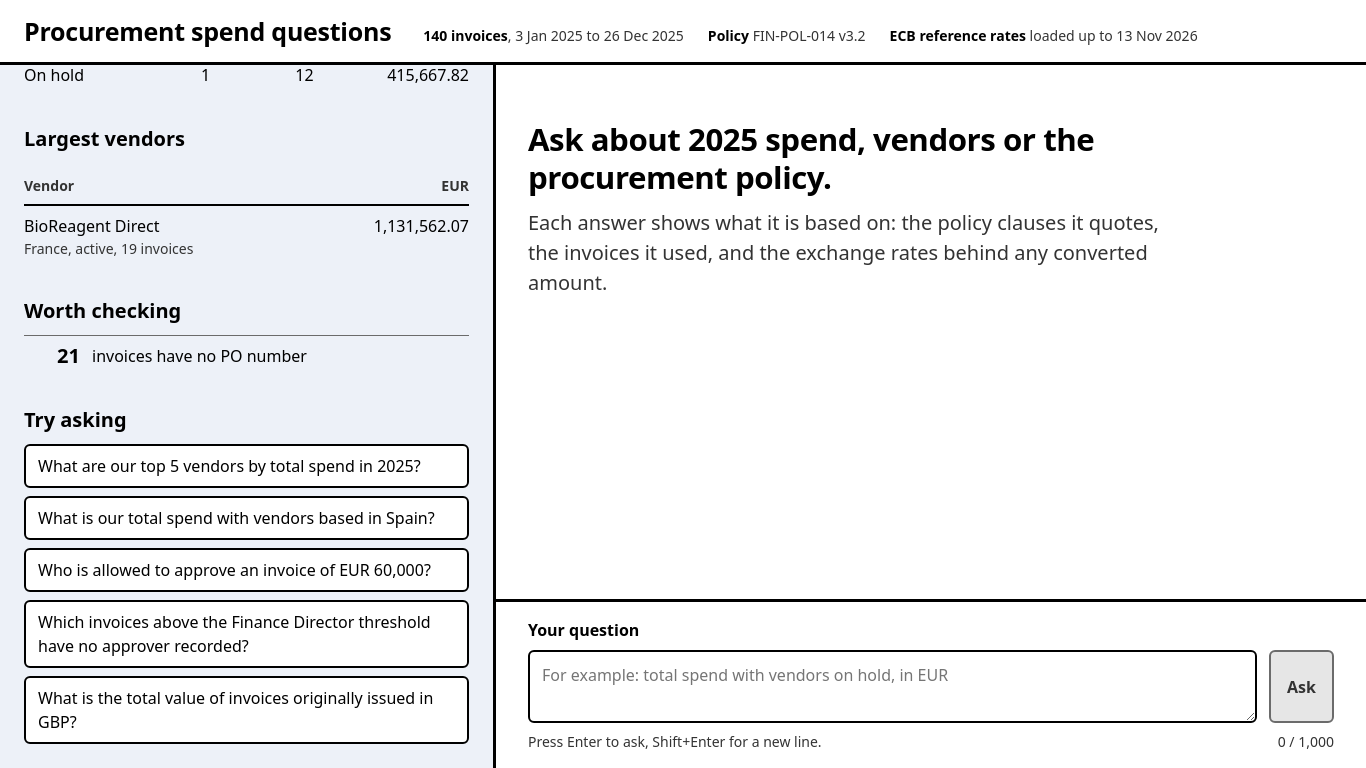
Test case: asking questions › states out-of-scope plainly
(page scrolled)
Click the button "What are our top 5 vendors by total spend in 2025?".
click(246, 466)  # box [24,444,469,488]
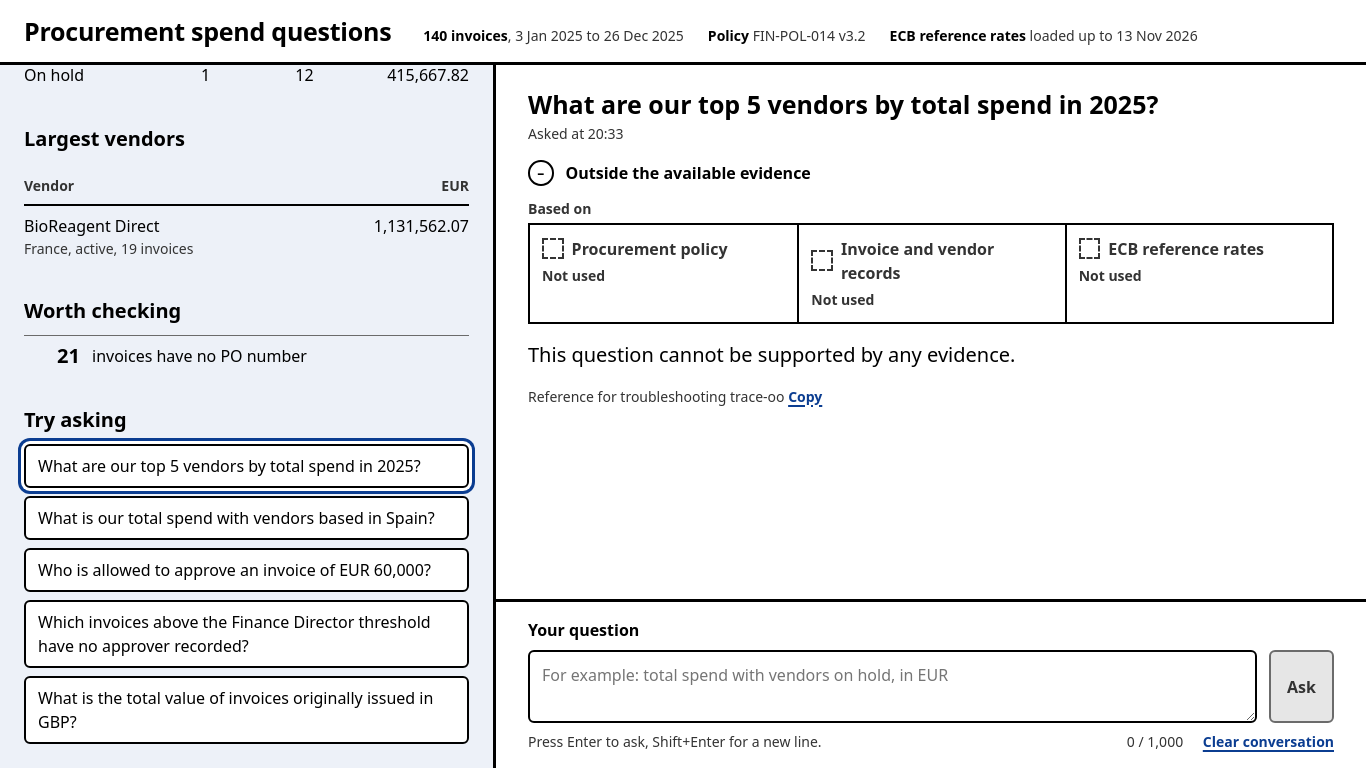
Expected: the text "Outside the available evidence" is shown, [566,162,811,184]
